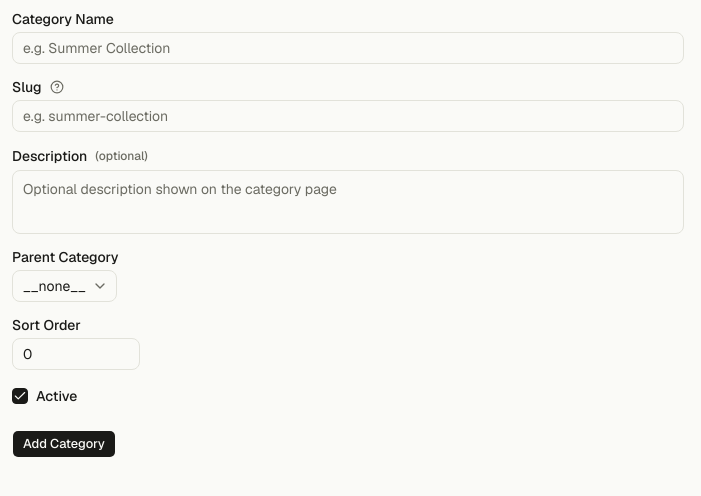
Test: CategoryForm › falls back to default message for 422 parentId without message
Type "X" into the field labelled "Category Name" at (348, 48), box [12, 32, 684, 64]
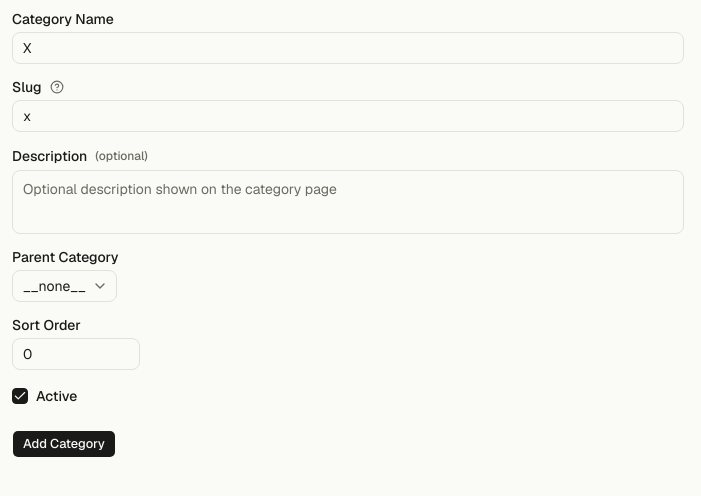
Click the button "Add Category" at (64, 444), box [12, 430, 116, 458]
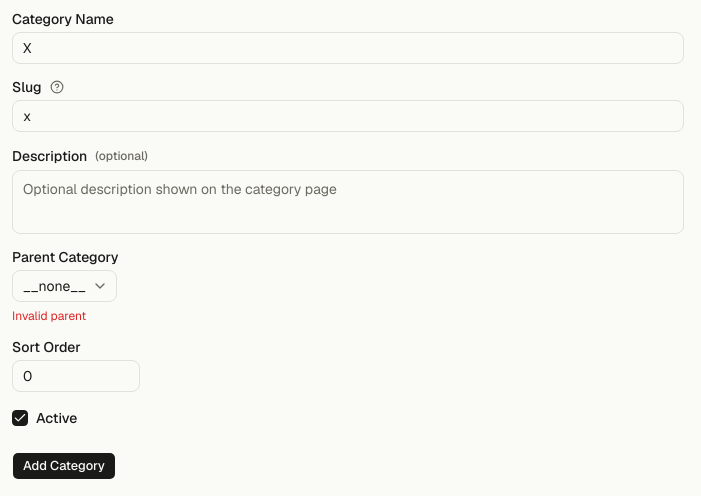
Expected: the text "Invalid parent" is shown, [12, 308, 86, 324]
